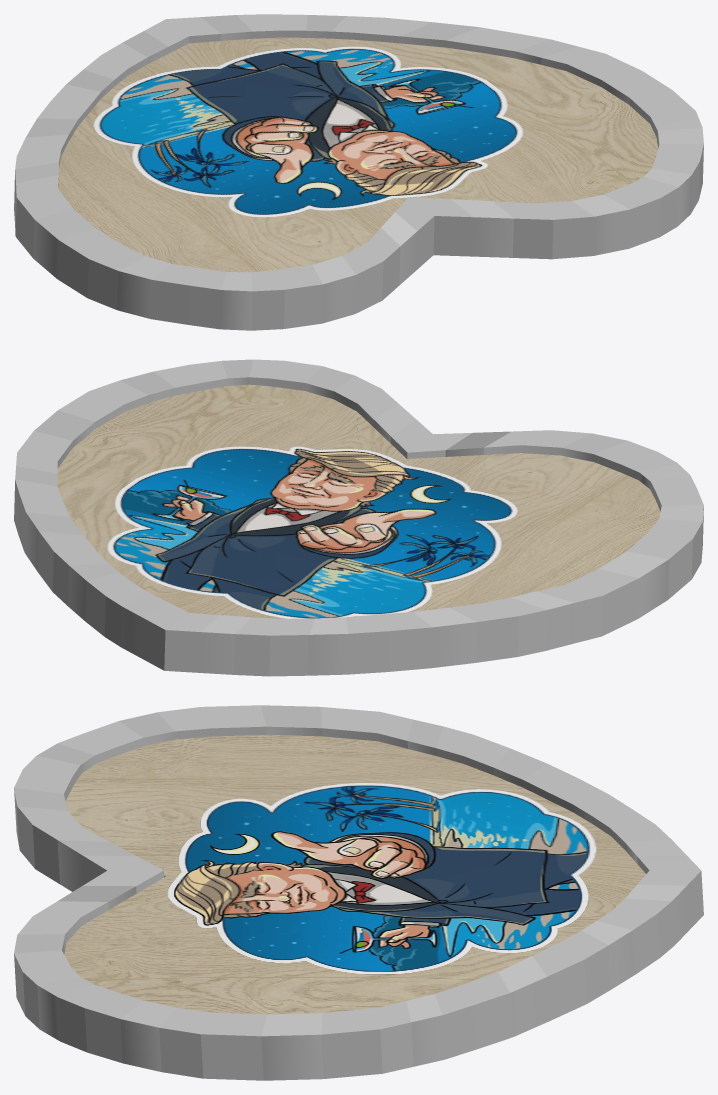
The model's file is Puzzle_41.FBX.
3 views of the same model, one above another, from view 1: azimuth 30°, elevation 25°; view 2: azimuth 150°, elevation 25°; view 3: azimuth 270°, elevation 25° (orthographic). The views are drawn at different scales.
Visible parts, largest first — view 1: Wood_1, 039, 041, 038, 037, 040, 042, 043; view 2: Wood_1, 039, 041, 038, 037, 040, 042, 043; view 3: Wood_1, 039, 041, 038, 037, 040, 043, 042.
Boxes of the visible parts, <box> form: Wood_1: <box>14,14,703,330</box>; 039: <box>58,132,359,272</box>; 041: <box>187,37,483,126</box>; 038: <box>190,104,499,246</box>; 037: <box>429,112,657,203</box>; 040: <box>61,44,276,164</box>; 042: <box>371,41,649,137</box>; 043: <box>276,87,473,182</box>; Wood_1: <box>14,359,703,676</box>; 039: <box>377,453,660,602</box>; 041: <box>95,478,279,614</box>; 038: <box>276,412,567,569</box>; 037: <box>124,384,358,477</box>; 040: <box>213,530,483,618</box>; 042: <box>57,412,195,548</box>; 043: <box>190,460,359,552</box>; Wood_1: <box>14,705,703,1080</box>; 039: <box>65,734,461,835</box>; 041: <box>332,852,643,976</box>; 038: <box>82,775,456,925</box>; 037: <box>64,894,330,1012</box>; 040: <box>355,763,645,876</box>; 043: <box>196,874,456,950</box>; 042: <box>214,951,528,1014</box>.
Size of the model in its own units: 4.23 by 0.2861 by 3.72.
